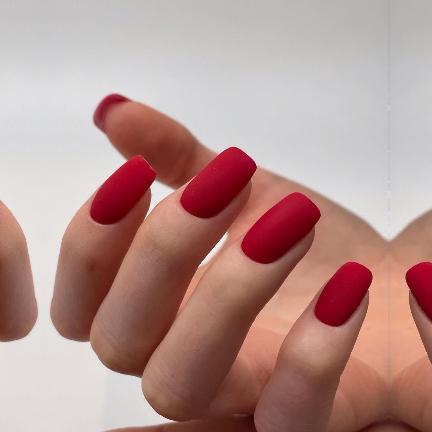Nail: (240, 192, 320, 264), (179, 147, 256, 219), (89, 155, 156, 225), (313, 261, 372, 327), (405, 261, 432, 323)
